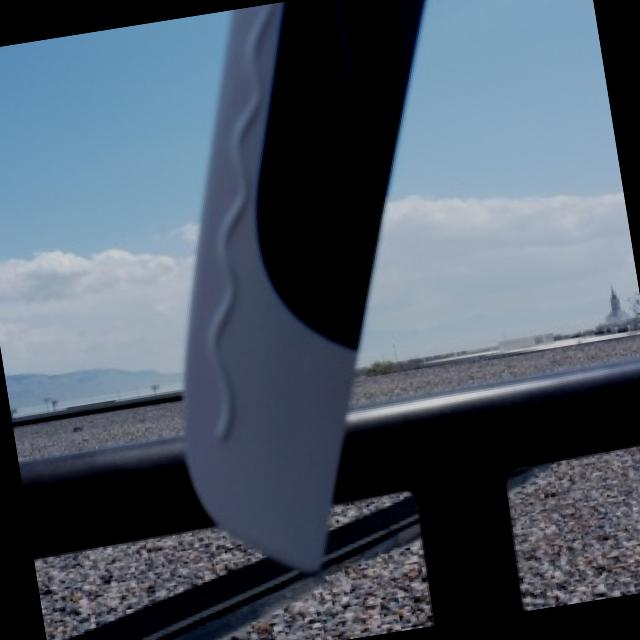healthy: (22, 0, 640, 623)
